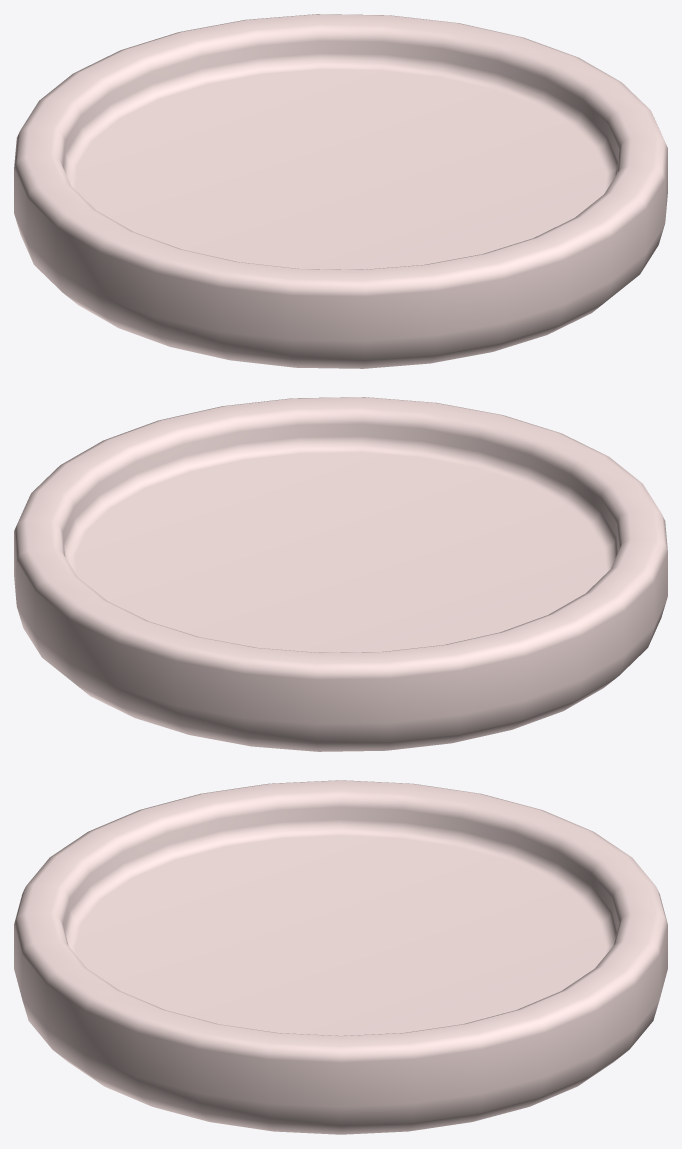
Rendered from Town_13_Plate_1.glb.
3 renders of one model, top to bottom at view 1: azimuth 30°, elevation 25°; view 2: azimuth 150°, elevation 25°; view 3: azimuth 270°, elevation 25°, orthographic.
Visible parts, largest first — view 1: Town_13_Plate_1; view 2: Town_13_Plate_1; view 3: Town_13_Plate_1.
Boxes of the visible parts, box(x1,y1,x2,y2) form: Town_13_Plate_1: box(14, 14, 667, 368); Town_13_Plate_1: box(14, 397, 667, 751); Town_13_Plate_1: box(14, 780, 667, 1134).
Bounding box in the file's own units: 0.236 × 0.0395 × 0.236.
Materials: 1 (1 with a texture image).
